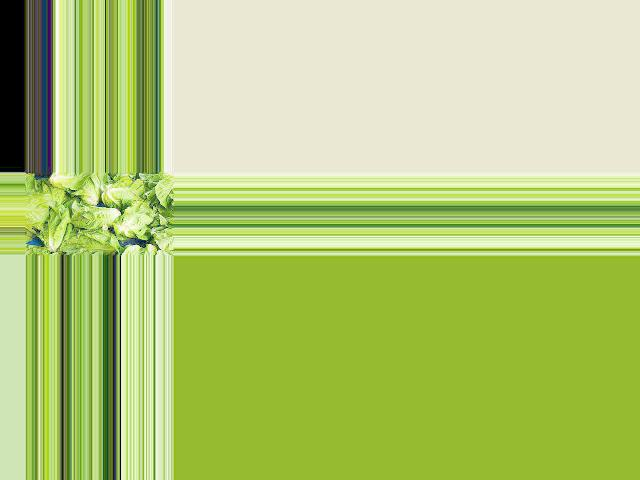lettuce: (42, 173, 92, 191)
